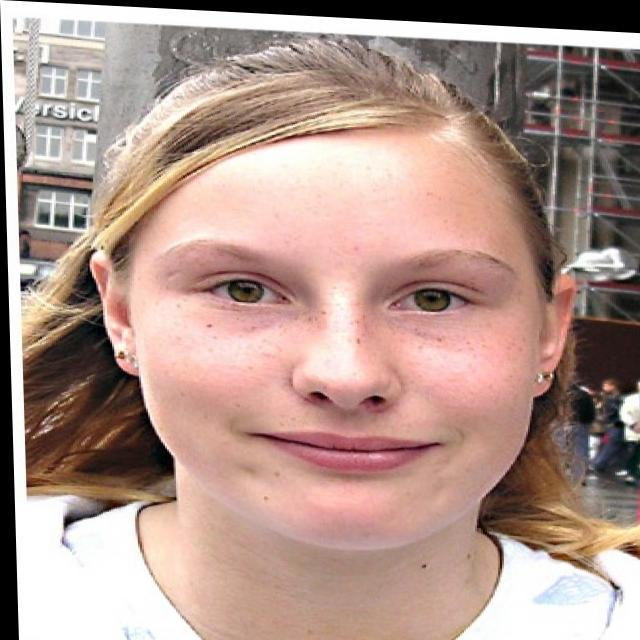Nonhelmet: (88, 33, 600, 564)
